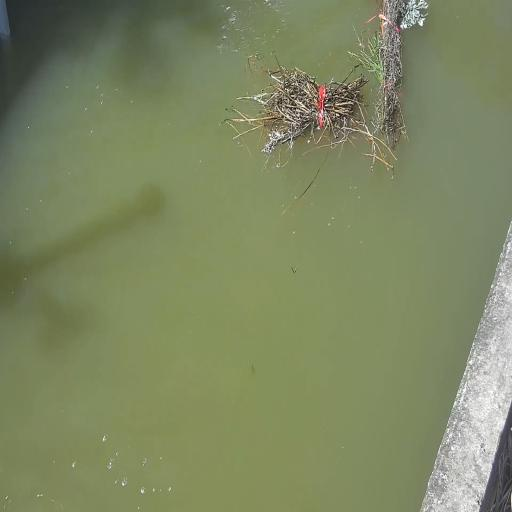twig: (253, 60, 373, 182), (356, 0, 430, 151)
